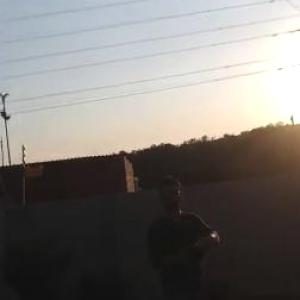follow: (134, 171, 228, 299)
